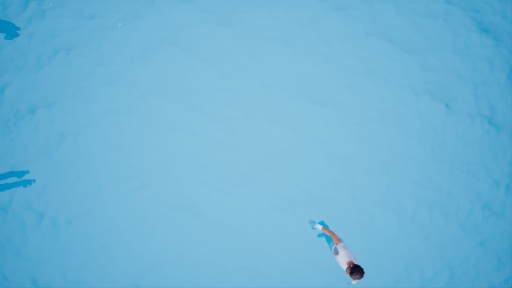person: (308, 214, 379, 288)
